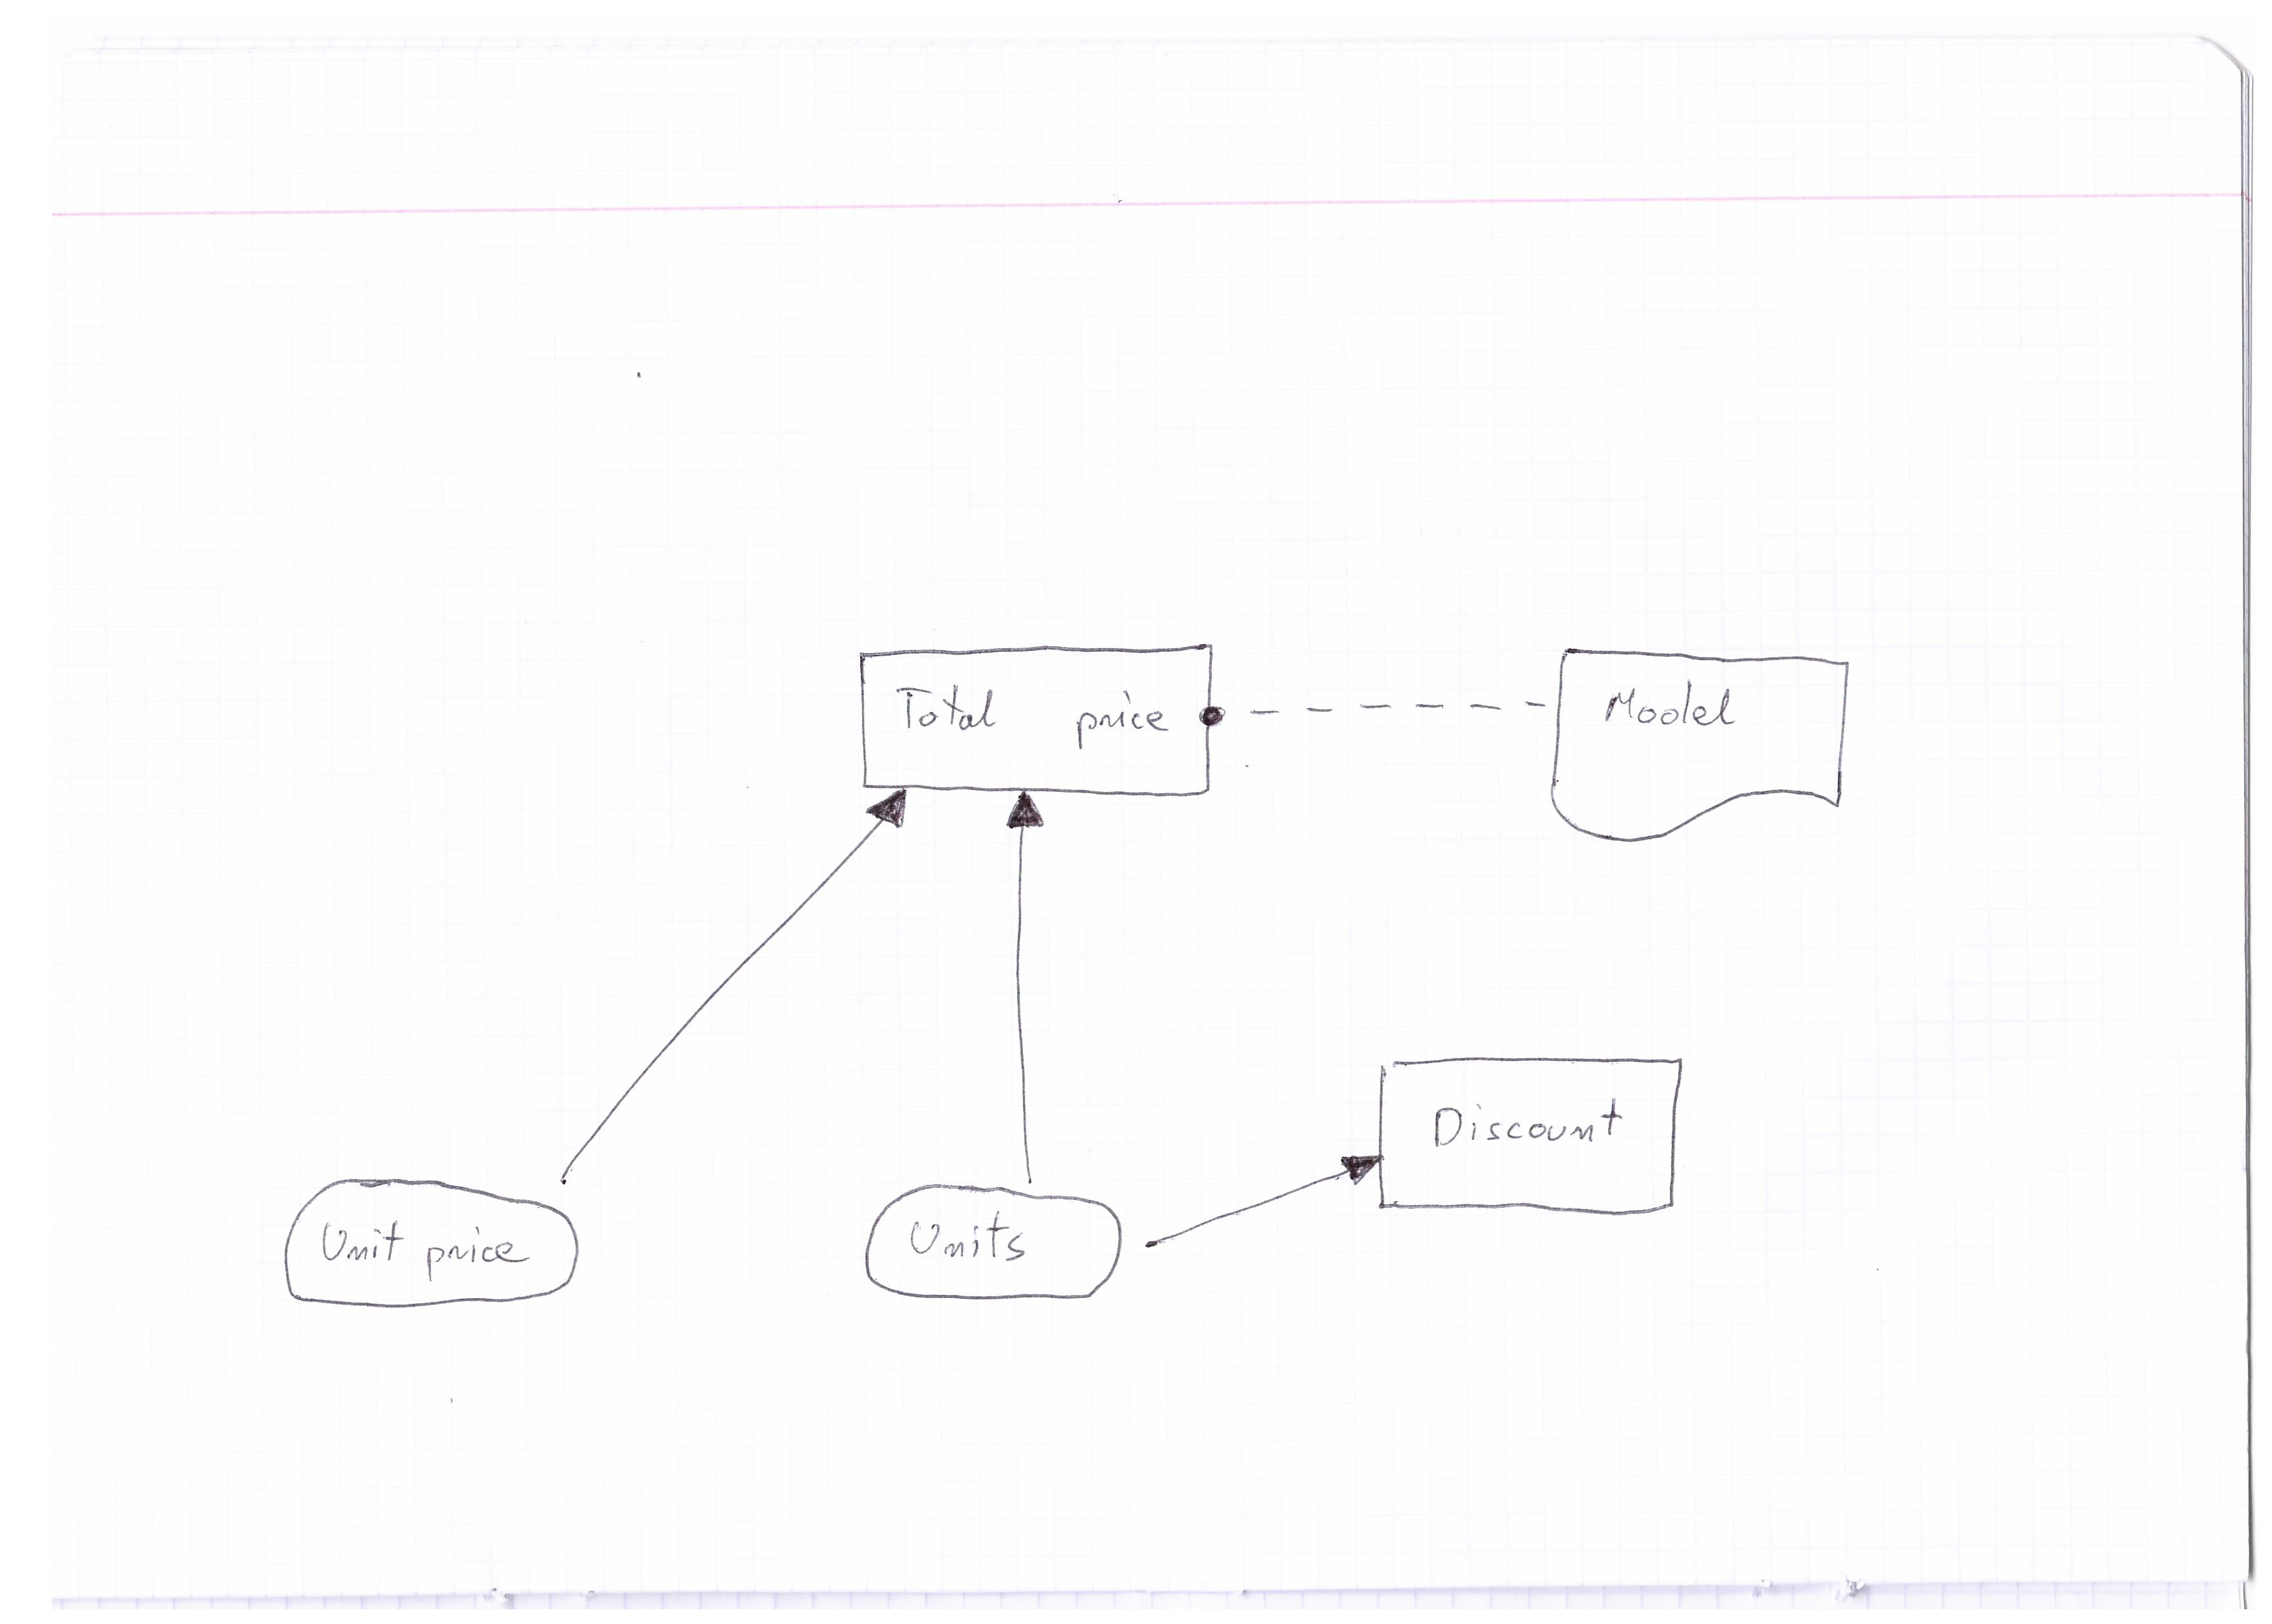arrow_authority_requirement: (1202, 692, 1552, 729)
arrow_information_requirement: (545, 786, 926, 1190), (1137, 1144, 1386, 1258), (998, 786, 1051, 1188)
node_decision: (850, 640, 1223, 798), (1378, 1053, 1680, 1230)
node_input_data: (271, 1171, 590, 1329), (857, 1181, 1130, 1322)
node_knowledge_source: (1546, 640, 1859, 861)
text: (887, 670, 1181, 761), (311, 1211, 538, 1287), (1422, 1088, 1632, 1164), (1595, 670, 1754, 747), (901, 1206, 1040, 1274)
